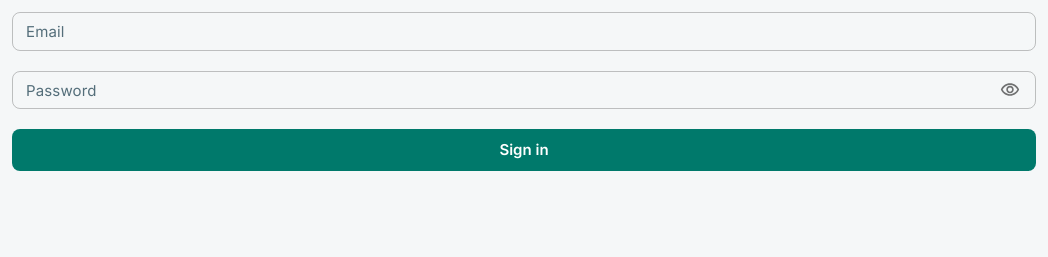
Test: SignInForm › explains rate limiting
Type "ada@example.test" into the field labelled "Email" at (524, 31), box 12,12 -> 1036,51
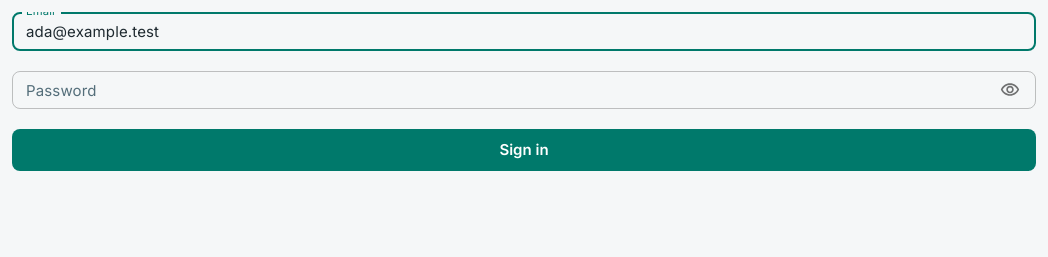
Type "whatever password" into the password field labelled "Password" at (500, 90), box 12,71 -> 987,109
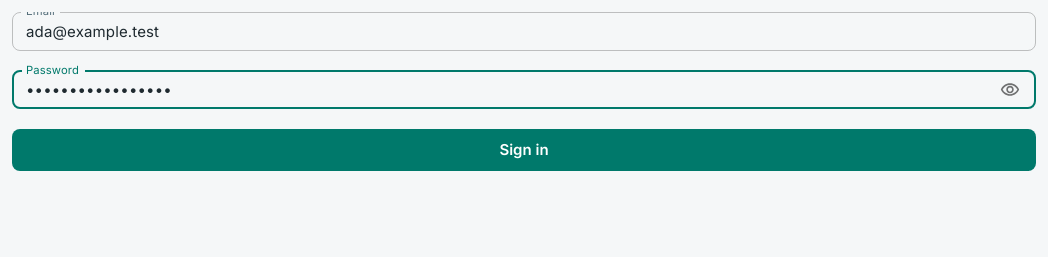
Click the button "Sign in" at (524, 150), box 12,129 -> 1036,171
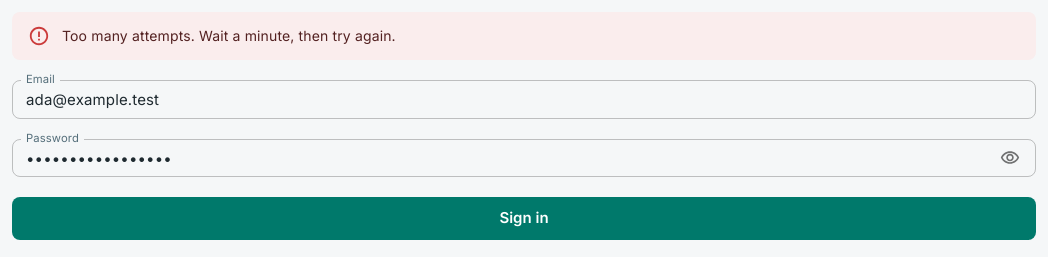
expect the message shows "Too many attempts": met, box 62,27 -> 396,44
